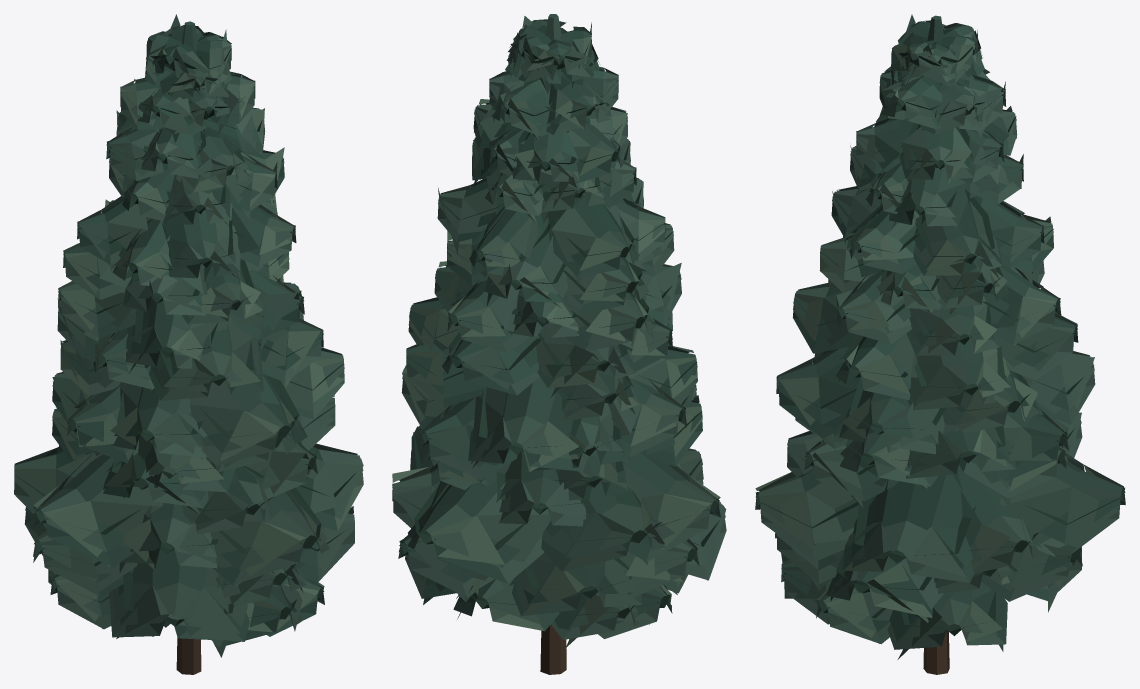
Rendered from pine-small.glb.
3 renders of one model, left to right at view 1: azimuth 30°, elevation 25°; view 2: azimuth 150°, elevation 25°; view 3: azimuth 270°, elevation 25°, orthographic.
Visible parts, largest first — view 1: pine-small-needles, pine-small; view 2: pine-small-needles, pine-small; view 3: pine-small-needles, pine-small.
Part boxes in pixels (x1,y1,x2,y2): pine-small-needles: (14,14,363,657); pine-small: (176,21,201,674); pine-small-needles: (392,16,726,647); pine-small: (540,14,566,674); pine-small-needles: (755,14,1125,659); pine-small: (923,15,949,674).
Size of the model in its own units: 1.99 by 4 by 2.06.
